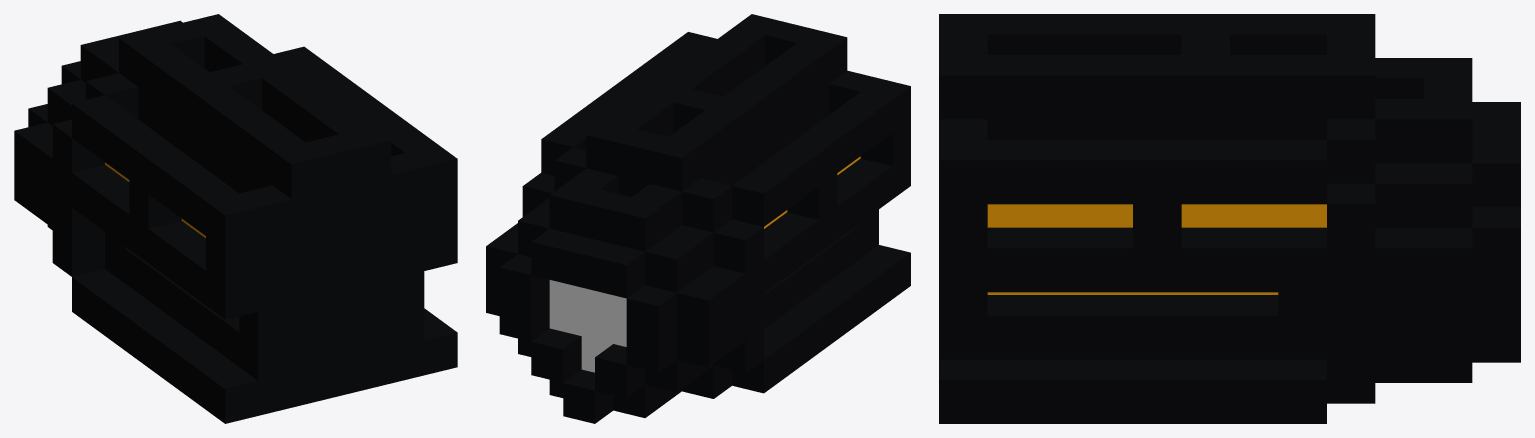
The model's file is EngineBackSmall1.FBX.
3 views of the same model, side by side, from view 1: azimuth 30°, elevation 25°; view 2: azimuth 150°, elevation 25°; view 3: azimuth 270°, elevation 25° (orthographic). The views are drawn at different scales.
Visible parts, largest first — view 1: EngineBackSmall1; view 2: EngineBackSmall1; view 3: EngineBackSmall1.
Part boxes in pixels (<box>): EngineBackSmall1: <box>14,14,457,423</box>; EngineBackSmall1: <box>486,14,910,423</box>; EngineBackSmall1: <box>939,14,1520,423</box>.
Bounding box in the file's own units: 7 × 12 × 7.
